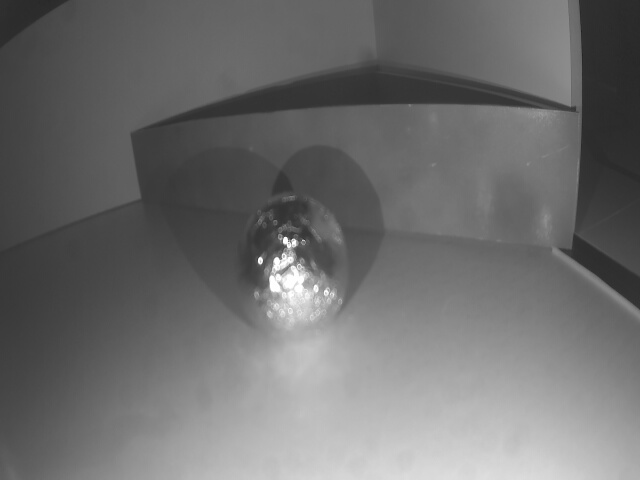Green: (128, 110, 580, 249)
Live: (234, 195, 347, 333)
